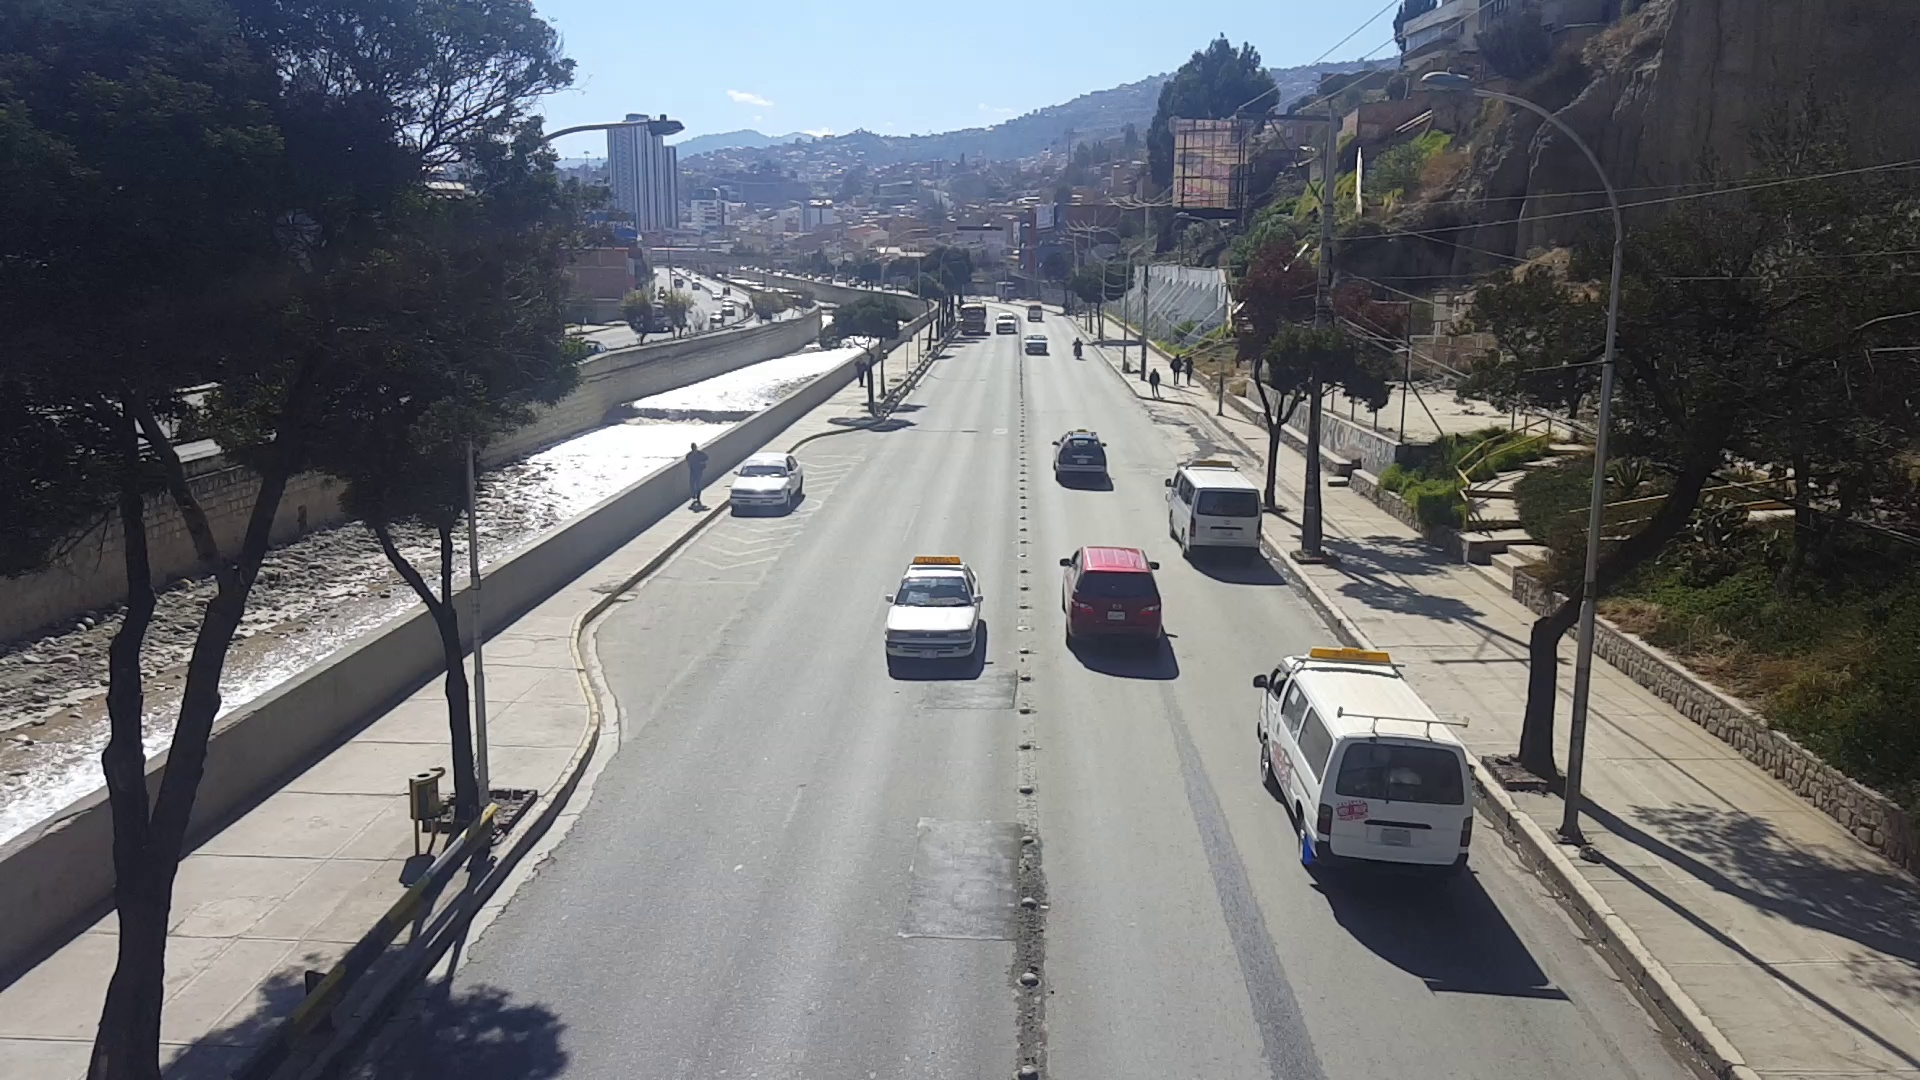automovil: (1060, 545, 1168, 647)
minibus: (1253, 649, 1476, 880), (1163, 455, 1263, 560)
taxitrufi: (881, 550, 992, 661), (1052, 426, 1112, 481)
